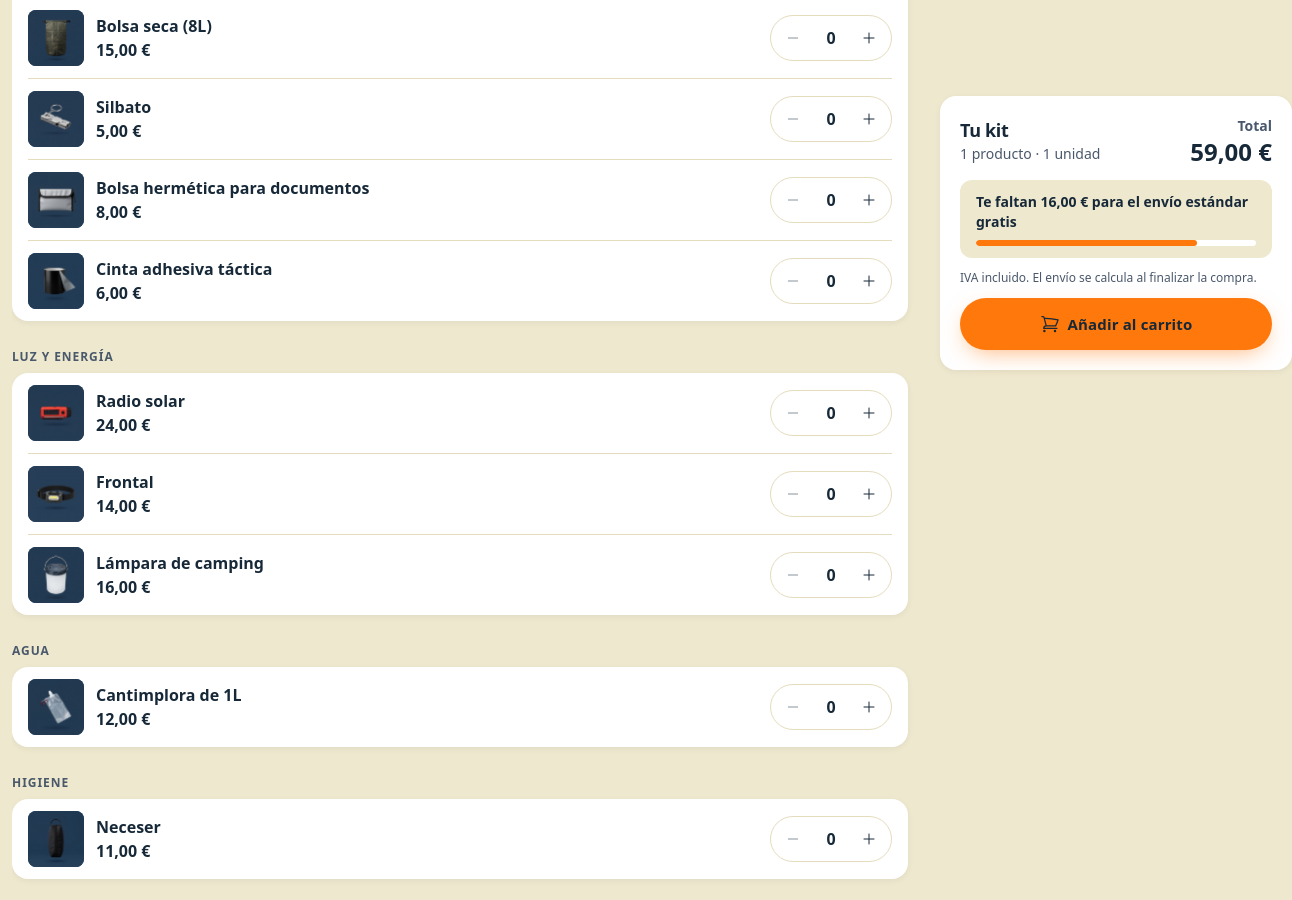
KitBuilder › adds what it can and names each product that could not be added
(page scrolled)
Check: the button "Añadir al carrito" is enabled, box x1=960 y1=298 x2=1272 y2=350
Click the button named "Añadir una unidad de Frontal".
click(869, 494)  # box x1=847 y1=472 x2=891 y2=516
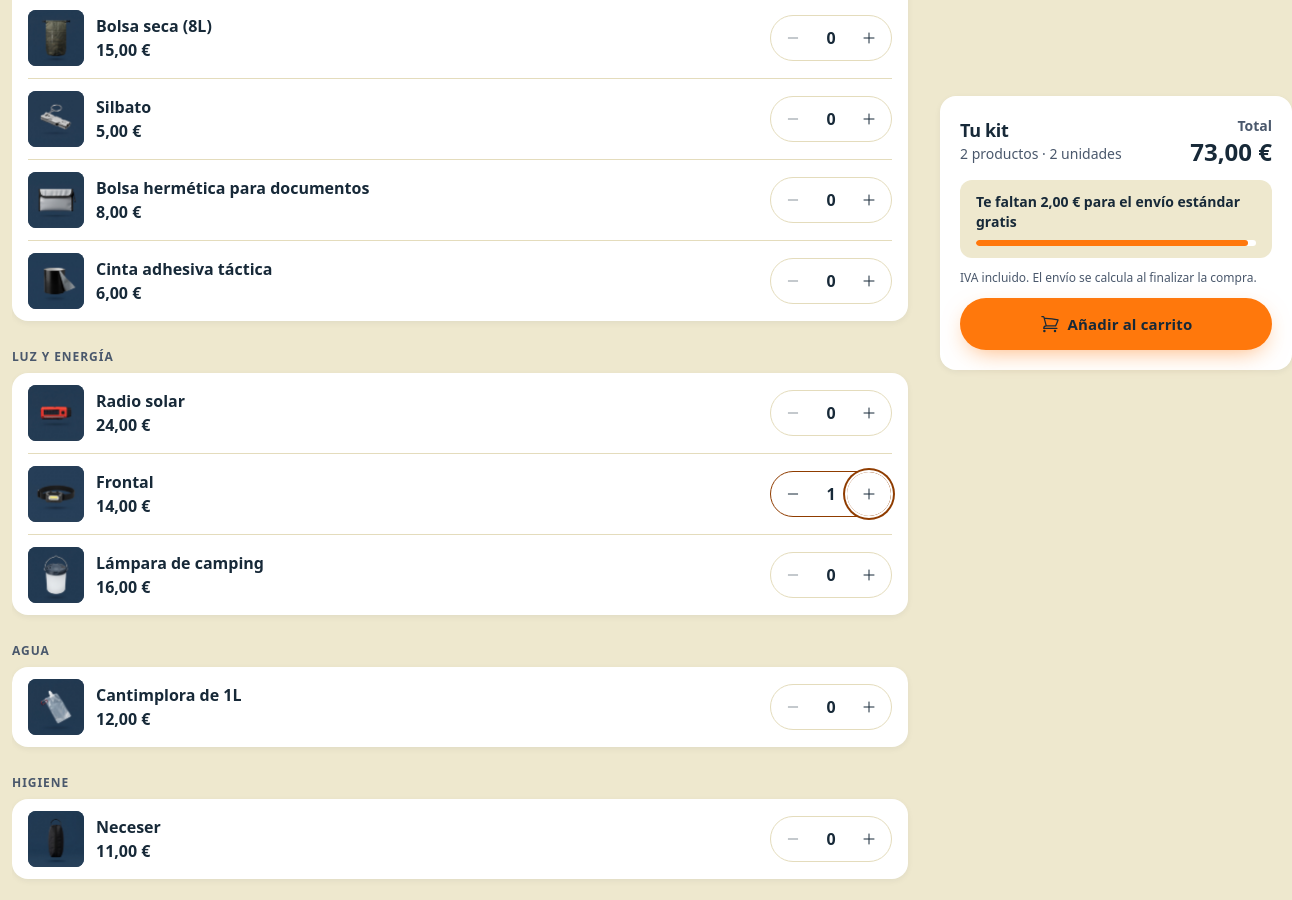
Click the button "Añadir al carrito".
click(1116, 324)  # box x1=960 y1=298 x2=1272 y2=350
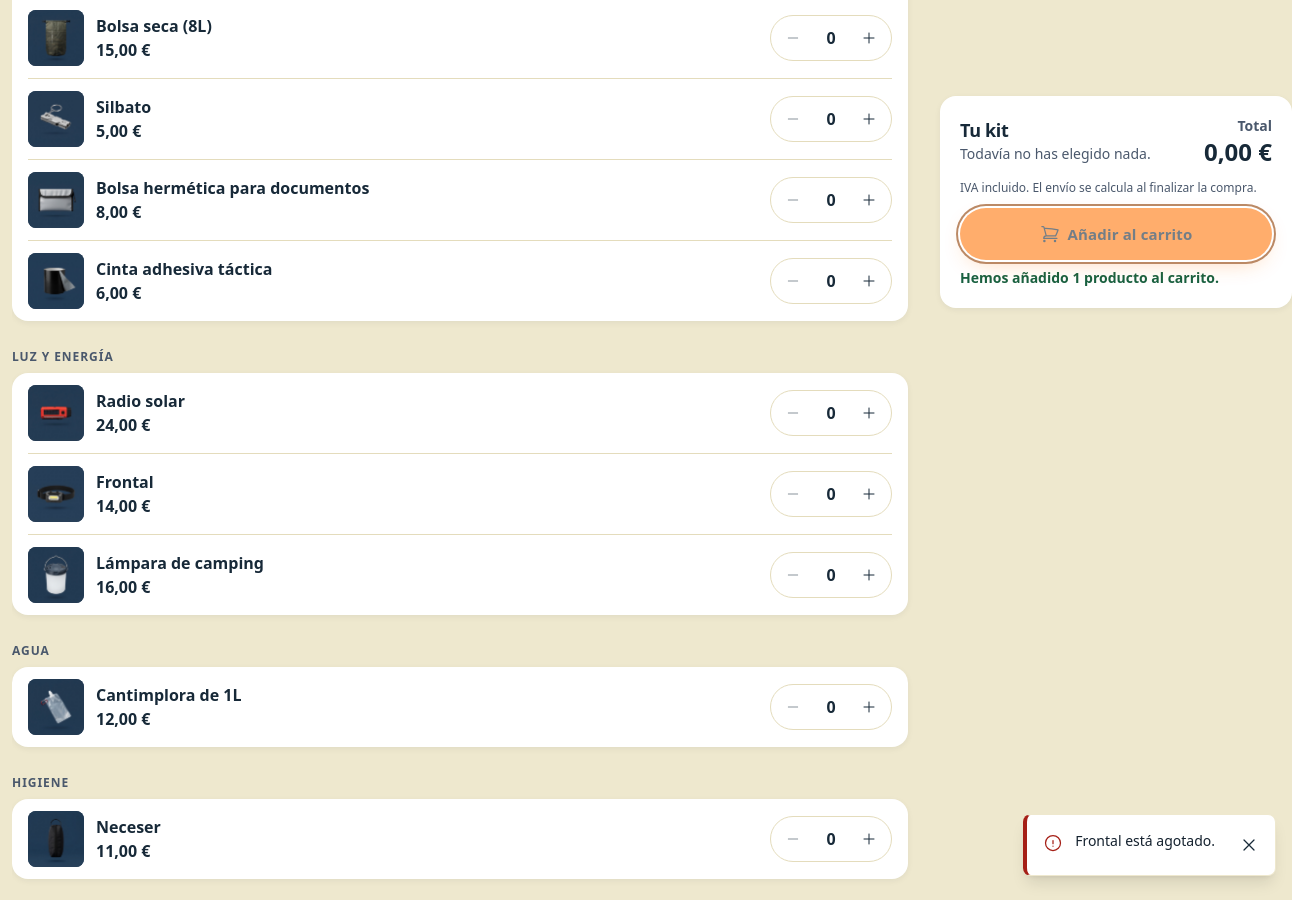
Check: the text "Frontal está agotado." is shown, box x1=1075 y1=831 x2=1215 y2=851
Check: the element "Tu kit" shows "Hemos añadido 1 producto al carrito.", box x1=960 y1=268 x2=1219 y2=287
